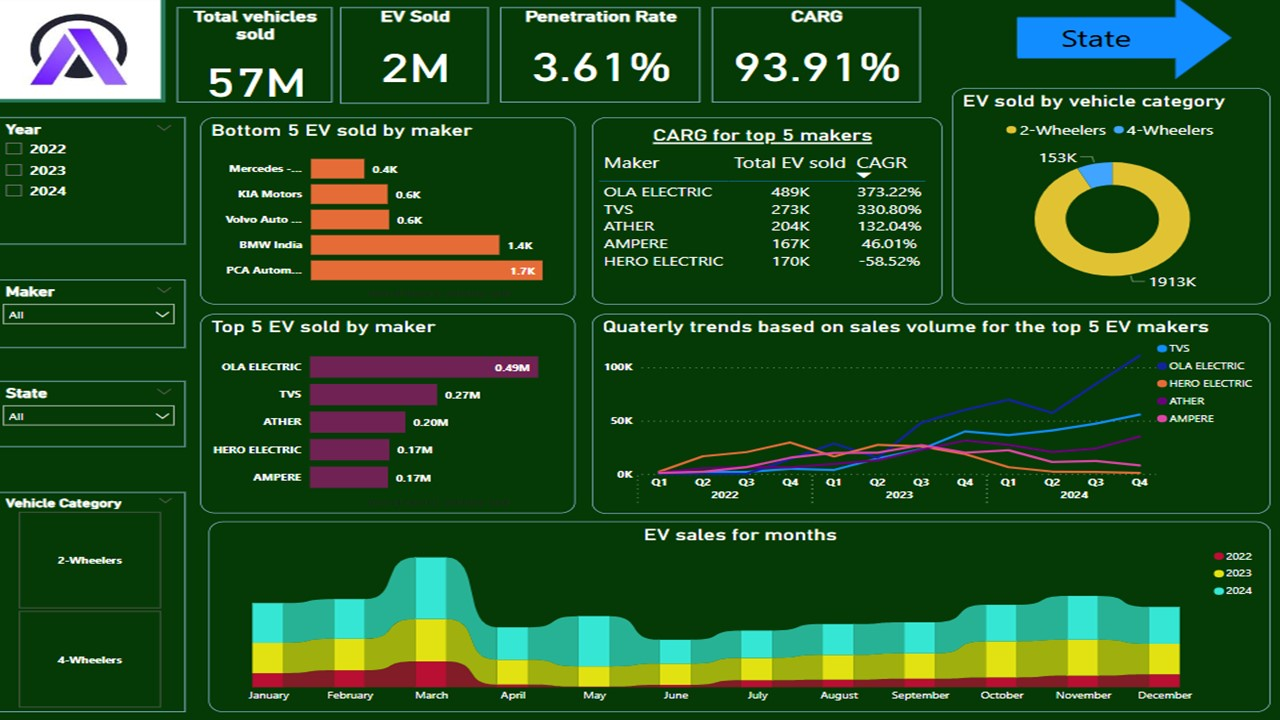

Layout of this report page (visuals, bound fields, positions):
{"tool":"powerbi","page":{"name":"Maker","canvas":[1300,1000],"ordinal":0},"visuals":[{"type":"slicer","fields":{"Values":["dim_date.fiscal_year"]},"box":[0,167.5,194.3,174.2],"z":0},{"type":"slicer","fields":{"Values":["electric_vehicle_sales_by_maker.vehicle_category"]},"box":[0,681.7,194.3,301.5],"z":1000},{"type":"clusteredBarChart","title":"Bottom 5 EV sold by maker","fields":{"Category":["electric_vehicle_sales_by_maker.maker"],"Y":["Sum(electric_vehicle_sales_by_maker.electric_vehicles_sold)"]},"box":[208.6,167.1,377.1,256.9],"z":2000},{"type":"lineChart","title":"Quaterly trends based on sales volume for the top 5 EV makers","fields":{"Category":["dim_date.fiscal_year","dim_date.quarter"],"Y":["Sum(electric_vehicle_sales_by_maker.electric_vehicles_sold)"],"Series":["electric_vehicle_sales_by_maker.maker"]},"box":[603,437.2,681.7,274.7],"z":3000},{"type":"slicer","fields":{"Values":["electric_vehicle_sales_by_state.state"]},"box":[0,529.3,194.3,90.5],"z":4000},{"type":"slicer","fields":{"Values":["electric_vehicle_sales_by_maker.maker"]},"box":[0,390.3,194.3,93.8],"z":5000},{"type":"image","box":[0,1.7,174.2,145.7],"z":6000},{"type":"shape","box":[1030.2,1.7,216.1,113.9],"z":7000},{"type":"cardVisual","title":"Penetration Rate","fields":{"Data":["electric_vehicle_sales_by_state.Penetration Rate"]},"box":[510.9,16.8,201,130.7],"z":8000},{"type":"cardVisual","title":"CARG","fields":{"Data":["electric_vehicle_sales_by_state.CAGR_Maker"]},"box":[723.6,16.8,209.4,130.7],"z":9000},{"type":"cardVisual","title":"EV Sold","fields":{"Data":["Sum(electric_vehicle_sales_by_state.electric_vehicles_sold)"]},"box":[350.1,16.8,149.1,132.3],"z":10000},{"type":"cardVisual","title":"Total vehicles sold","fields":{"Data":["Sum(electric_vehicle_sales_by_state.total_vehicles_sold)"]},"box":[185.9,16.8,155.8,130.7],"z":11000},{"type":"tableEx","title":"CARG for top 5 makers","fields":{"Values":["electric_vehicle_sales_by_maker.maker","Sum(electric_vehicle_sales_by_maker.electric_vehicles_sold)","electric_vehicle_sales_by_state.CAGR_Maker"]},"box":[602.3,167.1,352.3,256.9],"z":12000},{"type":"donutChart","title":"EV sold by vehicle category","fields":{"Category":["electric_vehicle_sales_by_state.vehicle_category"],"Y":["Sum(electric_vehicle_sales_by_state.electric_vehicles_sold)"]},"box":[964.8,127.3,319.9,296.5],"z":13000},{"type":"clusteredBarChart","title":"Top 5 EV sold by maker","fields":{"Category":["electric_vehicle_sales_by_maker.maker"],"Y":["Sum(electric_vehicle_sales_by_maker.electric_vehicles_sold)"]},"box":[208.6,437.9,377.1,273.5],"z":14000},{"type":"ribbonChart","title":"EV sales for months","fields":{"Category":["dim_date.date.Variation.Date Hierarchy.Month"],"Series":["dim_date.fiscal_year"],"Y":["Sum(electric_vehicle_sales_by_maker.electric_vehicles_sold)"]},"box":[217.8,721.9,1067,261.3],"z":15000},{"type":"textbox","box":[1030.2,31.8,159.1,52],"z":16000}]}

Visuals, with their boxes on the page's 1300x1000 design canvas (x1, y1, x2, y2). These are canvas units, not pixel positions in the 1280x720 screenshot, which may show the page scaled, cropped or inside an application window:
slicer - dim_date.fiscal_year: {"x1": 0, "y1": 168, "x2": 194, "y2": 342}
slicer - electric_vehicle_sales_by_maker.vehicle_category: {"x1": 0, "y1": 682, "x2": 194, "y2": 983}
"Bottom 5 EV sold by maker" clusteredBarChart: {"x1": 209, "y1": 167, "x2": 586, "y2": 424}
"Quaterly trends based on sales volume for the top 5 EV makers" lineChart: {"x1": 603, "y1": 437, "x2": 1285, "y2": 712}
slicer - electric_vehicle_sales_by_state.state: {"x1": 0, "y1": 529, "x2": 194, "y2": 620}
slicer - electric_vehicle_sales_by_maker.maker: {"x1": 0, "y1": 390, "x2": 194, "y2": 484}
image: {"x1": 0, "y1": 2, "x2": 174, "y2": 147}
shape: {"x1": 1030, "y1": 2, "x2": 1246, "y2": 116}
"Penetration Rate" cardVisual: {"x1": 511, "y1": 17, "x2": 712, "y2": 148}
"CARG" cardVisual: {"x1": 724, "y1": 17, "x2": 933, "y2": 148}
"EV Sold" cardVisual: {"x1": 350, "y1": 17, "x2": 499, "y2": 149}
"Total vehicles sold" cardVisual: {"x1": 186, "y1": 17, "x2": 342, "y2": 148}
"CARG for top 5 makers" tableEx: {"x1": 602, "y1": 167, "x2": 955, "y2": 424}
"EV sold by vehicle category" donutChart: {"x1": 965, "y1": 127, "x2": 1285, "y2": 424}
"Top 5 EV sold by maker" clusteredBarChart: {"x1": 209, "y1": 438, "x2": 586, "y2": 711}
"EV sales for months" ribbonChart: {"x1": 218, "y1": 722, "x2": 1285, "y2": 983}
textbox: {"x1": 1030, "y1": 32, "x2": 1189, "y2": 84}
